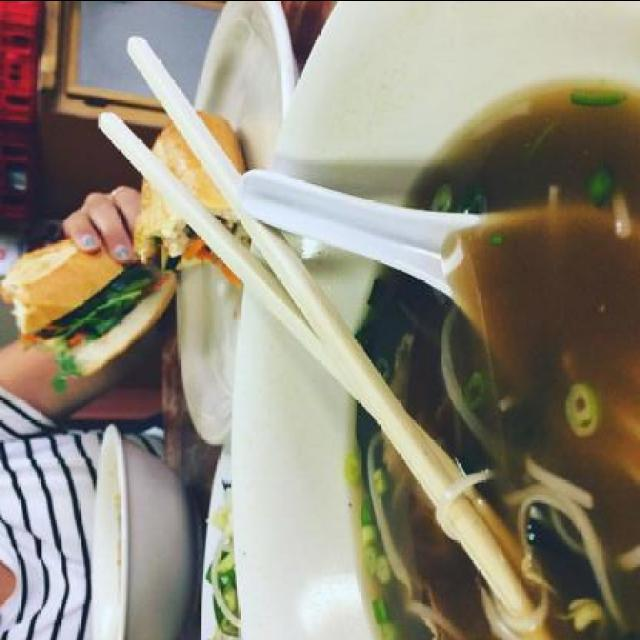Sandwich: (2, 235, 176, 391), (130, 109, 247, 265)
